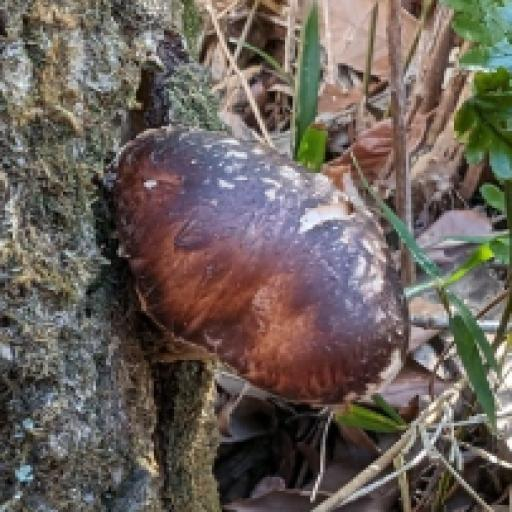Shiitake Mushroom: (65, 92, 435, 434)
